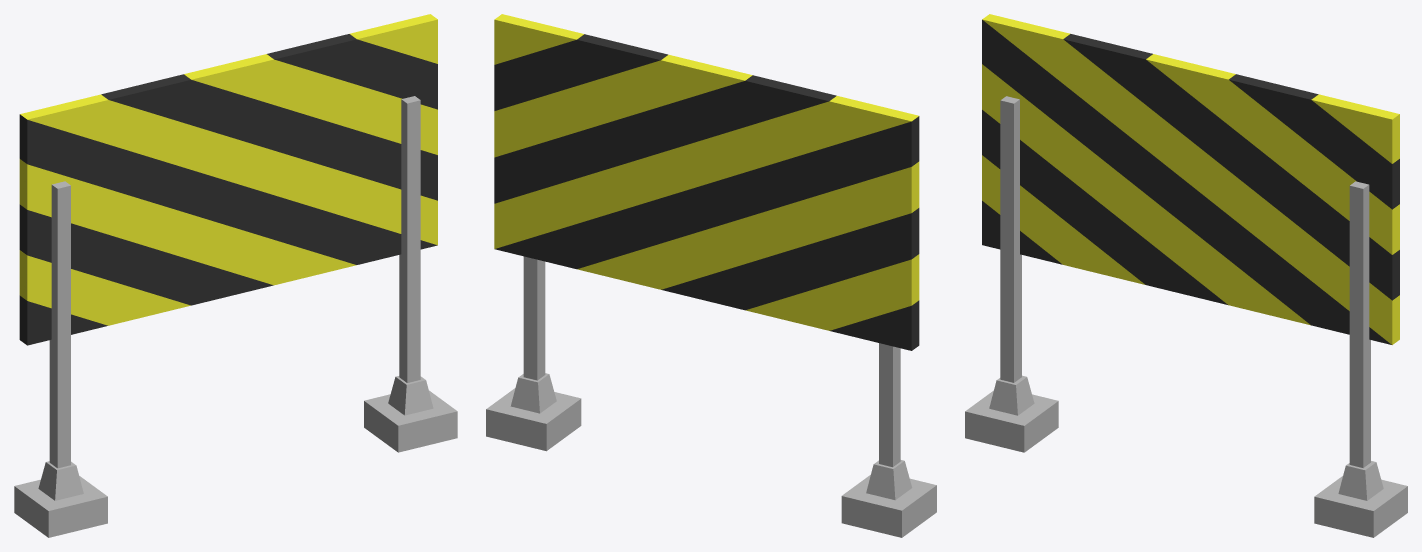
Rendered from SM_ConstructSign_02.FBX.
3 renders of one model, left to right at view 1: azimuth 30°, elevation 25°; view 2: azimuth 150°, elevation 25°; view 3: azimuth 330°, elevation 25°, orthographic.
Visible parts, largest first — view 1: SM_ConstructSign_02; view 2: SM_ConstructSign_02; view 3: SM_ConstructSign_02.
Boxes of the visible parts, left/top/right/bottom form: SM_ConstructSign_02: left=14, top=14, right=457, bottom=537; SM_ConstructSign_02: left=486, top=14, right=936, bottom=537; SM_ConstructSign_02: left=965, top=14, right=1407, bottom=537.
Size of the model in its own units: 1.04 by 0.9792 by 0.1505.
Materials: 1 (1 with a texture image).
